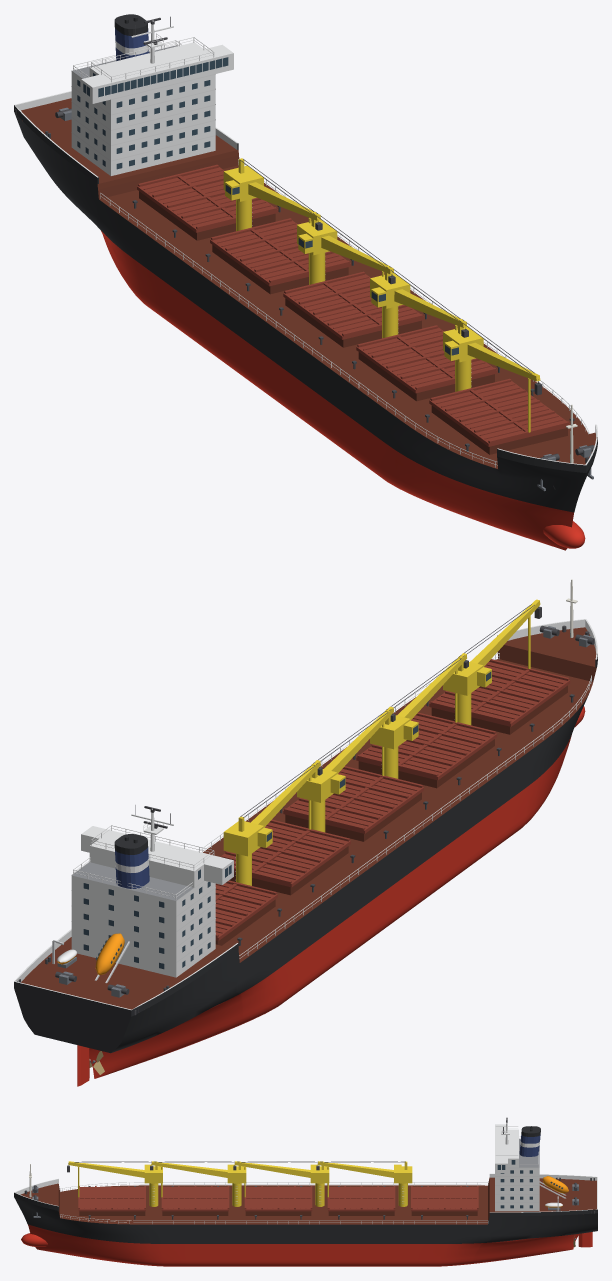
File: ambient_bulk_carrier_close.fbx
3 views of the same model, one above another, from view 1: azimuth 30°, elevation 25°; view 2: azimuth 150°, elevation 25°; view 3: azimuth 270°, elevation 25° (orthographic). The views are drawn at different scales.
Visible parts, largest first — view 1: ambient_bulk_carrier_close; view 2: ambient_bulk_carrier_close; view 3: ambient_bulk_carrier_close.
Boxes of the visible parts, box(x1,y1,x2,y2) form: ambient_bulk_carrier_close: box(14, 14, 597, 550); ambient_bulk_carrier_close: box(14, 579, 597, 1086); ambient_bulk_carrier_close: box(14, 1117, 597, 1266).
Bounding box in the file's own units: 27.06 × 41.7 × 170.
